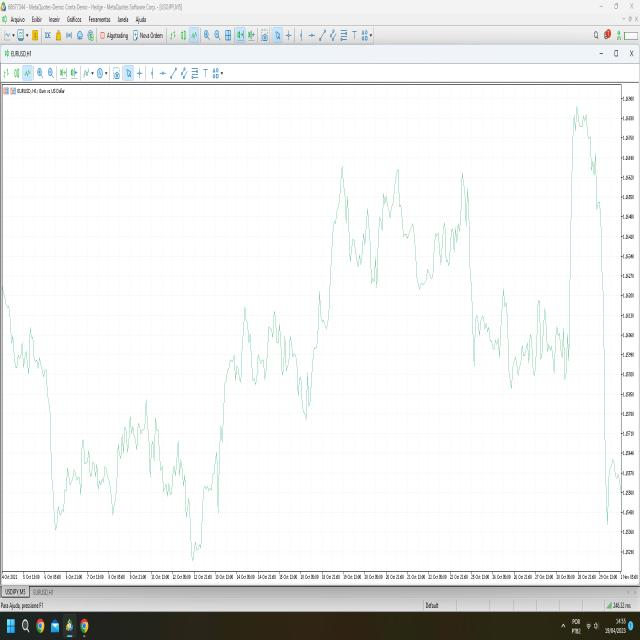bandeira_baixa: (462, 155, 500, 383)
oco: (216, 280, 267, 466)
